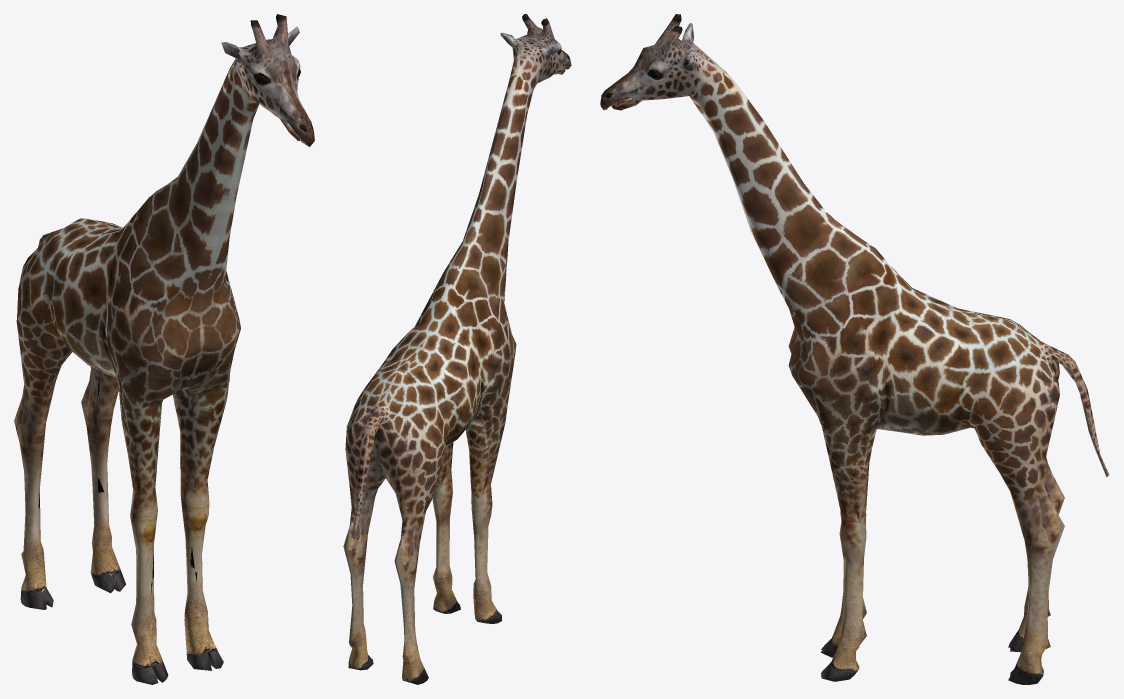
The model's file is Giraffe.FBX.
3 renders of one model, left to right at view 1: azimuth 30°, elevation 25°; view 2: azimuth 150°, elevation 25°; view 3: azimuth 270°, elevation 25°, orthographic. The views are drawn at different scales.
Parts seen in each view (by area): view 1: Giraffe; view 2: Giraffe; view 3: Giraffe.
Part boxes in pixels (x1,y1,x2,y2): Giraffe: (14, 14, 314, 684); Giraffe: (343, 14, 571, 684); Giraffe: (600, 14, 1109, 684).
Size of the model in its own units: 1.82 by 7.52 by 10.51.
1 material, 1 textured.
